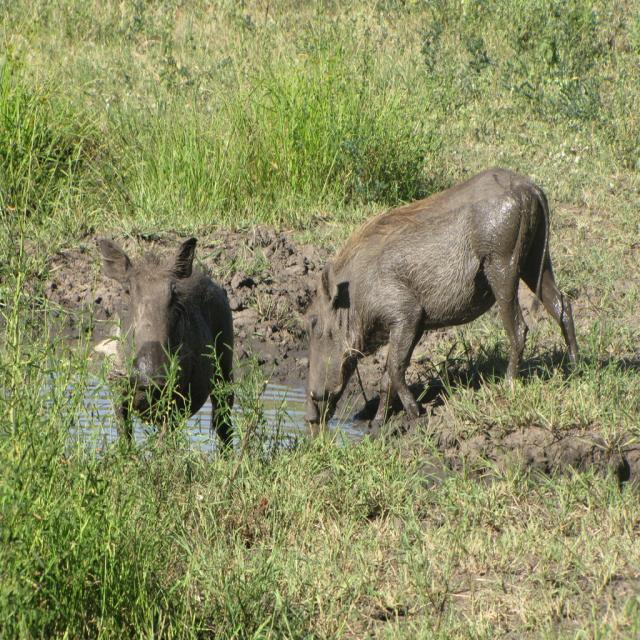Pig: (303, 168, 581, 424), (90, 238, 234, 462)
